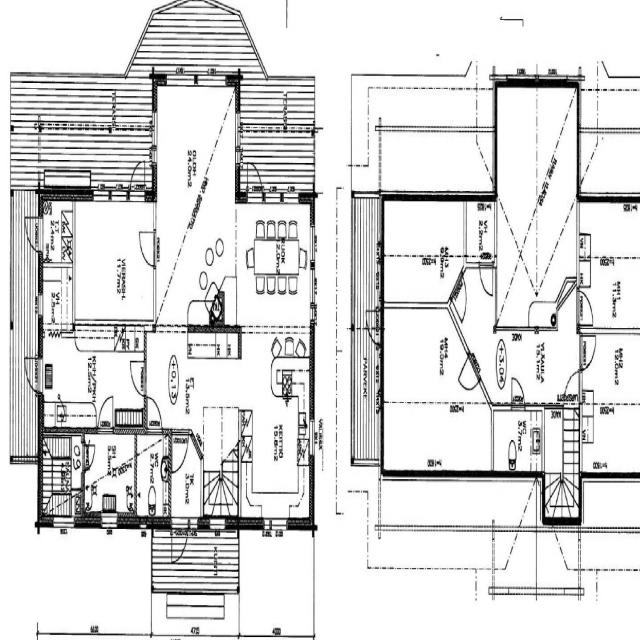door: (450, 271, 473, 325), (458, 352, 480, 404), (172, 518, 188, 566), (22, 358, 42, 392), (247, 159, 262, 204), (172, 429, 188, 471), (364, 311, 384, 344), (130, 158, 144, 204), (579, 335, 597, 370), (23, 218, 42, 251), (129, 361, 146, 396), (98, 395, 113, 434), (147, 395, 162, 434), (139, 232, 156, 265), (577, 291, 593, 325), (479, 262, 492, 298), (512, 376, 525, 411), (82, 444, 96, 471)
